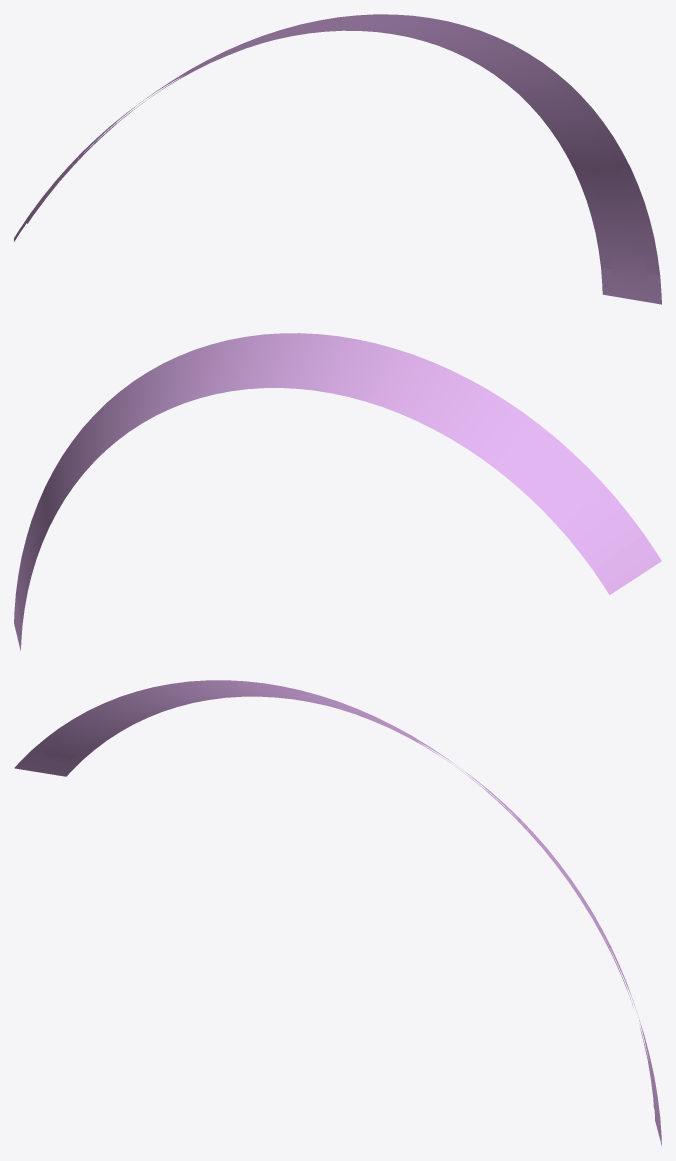
The model's file is Mesh_Note_24.fbx.
3 views of the same model, one above another, from view 1: azimuth 30°, elevation 25°; view 2: azimuth 150°, elevation 25°; view 3: azimuth 330°, elevation 25° (orthographic).
Parts seen in each view (by area): view 1: Mesh_Note_24; view 2: Mesh_Note_24; view 3: Mesh_Note_24.
Part boxes in pixels (box(x1,y1,x2,y2)): Mesh_Note_24: box(14, 14, 661, 304); Mesh_Note_24: box(14, 333, 661, 650); Mesh_Note_24: box(14, 680, 661, 1145).
Size of the model in its own units: 3.19 by 1.74 by 0.2235.
